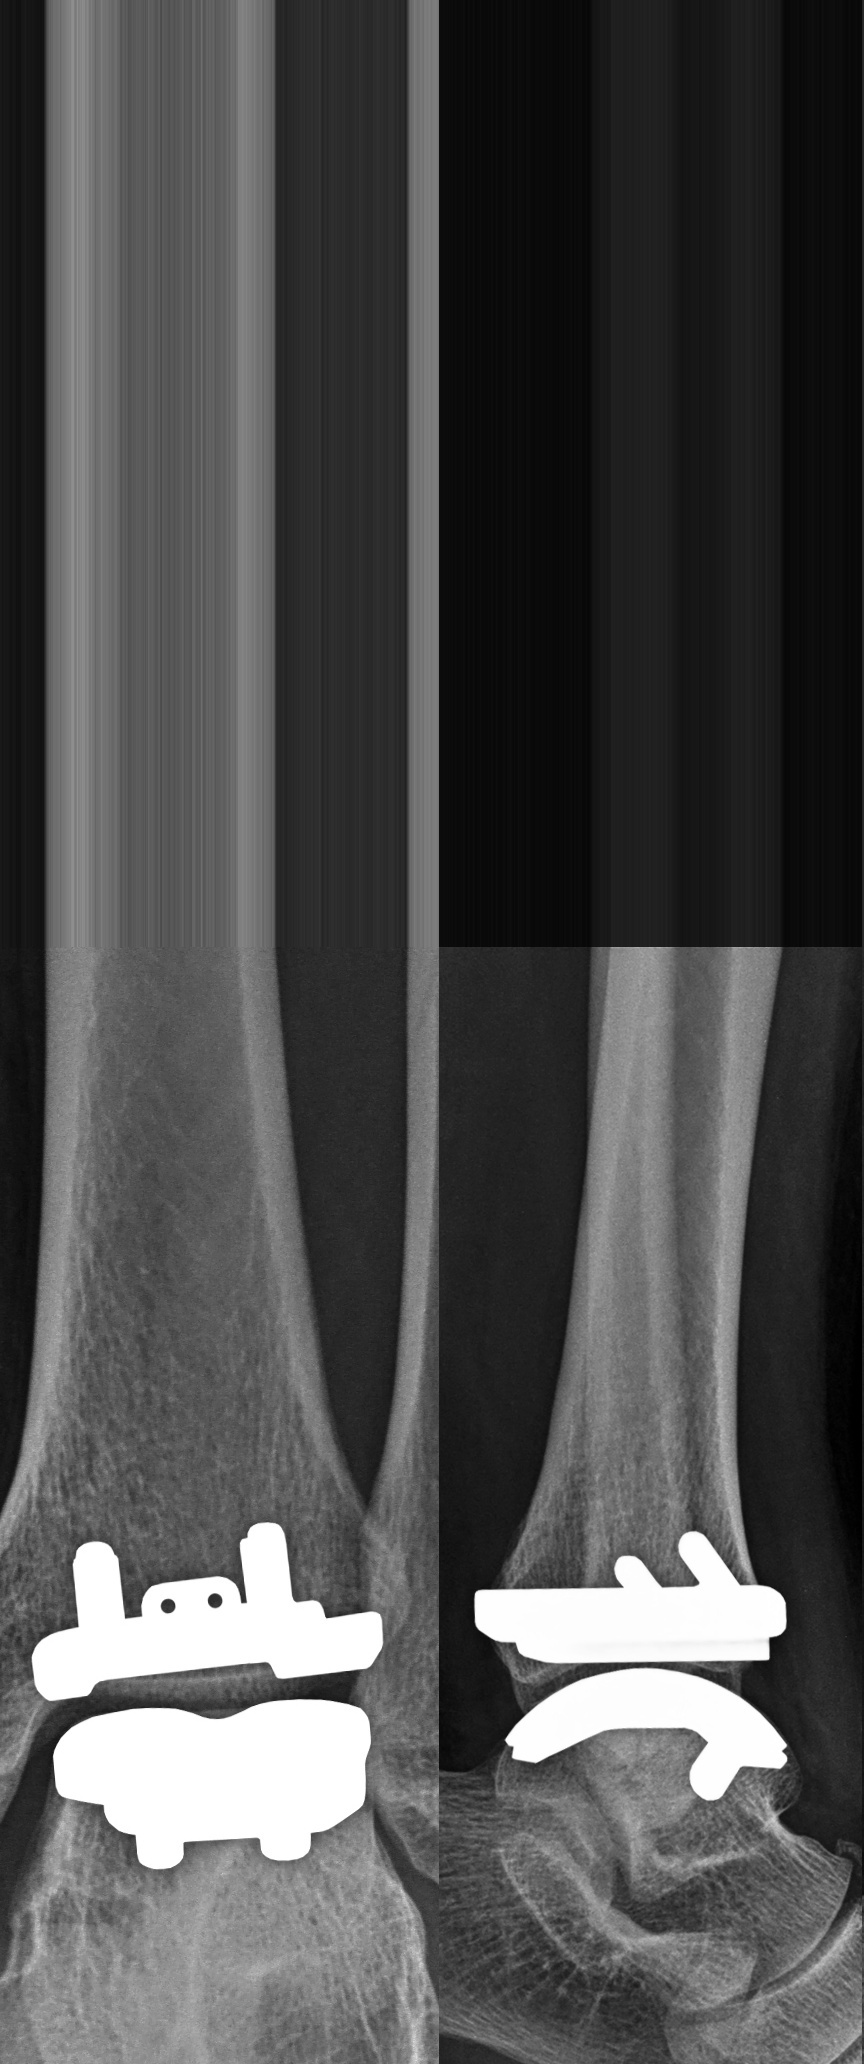Cadence-Integra: (17, 1505, 386, 1882), (446, 1524, 817, 1806)
